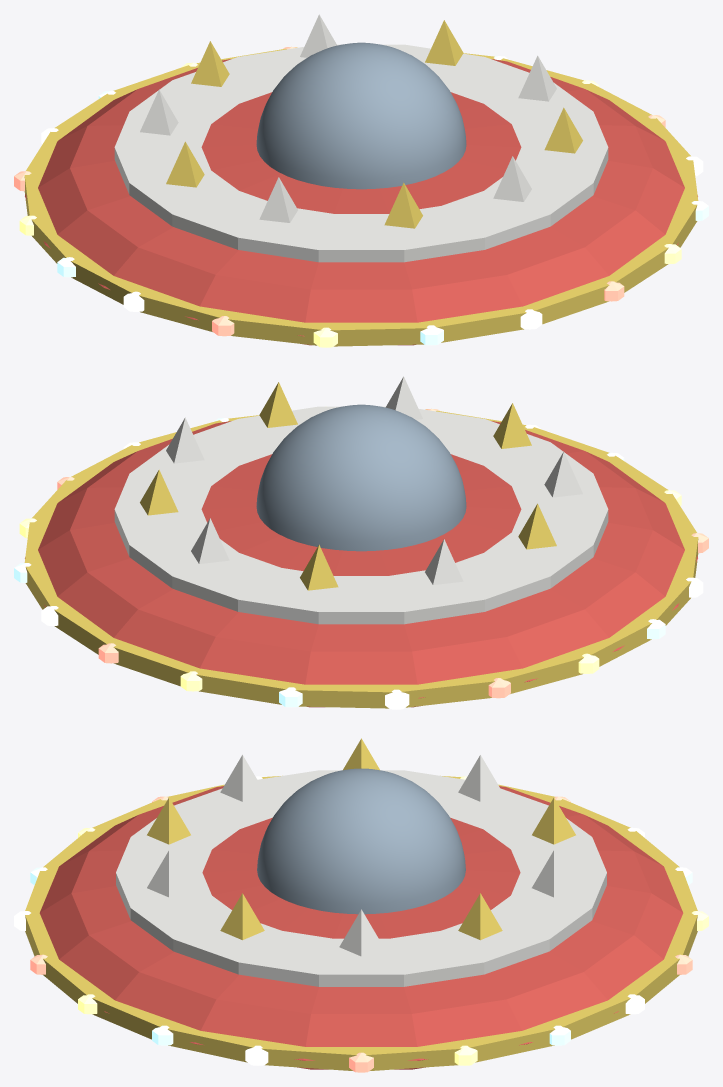
File: carnival.glb
3 views of the same model, one above another, from view 1: azimuth 30°, elevation 25°; view 2: azimuth 150°, elevation 25°; view 3: azimuth 270°, elevation 25° (orthographic).
Visible parts, largest first — view 1: carnival, dome.010; view 2: carnival, dome.010; view 3: carnival, dome.010.
Part boxes in pixels (bbox=[...]): carnival: bbox=[14, 14, 708, 347]; dome.010: bbox=[256, 42, 466, 189]; carnival: bbox=[14, 376, 708, 709]; dome.010: bbox=[256, 404, 466, 551]; carnival: bbox=[14, 738, 708, 1072]; dome.010: bbox=[257, 768, 465, 914].
Bounding box in the file's own units: 4.96 × 1.65 × 4.98.
